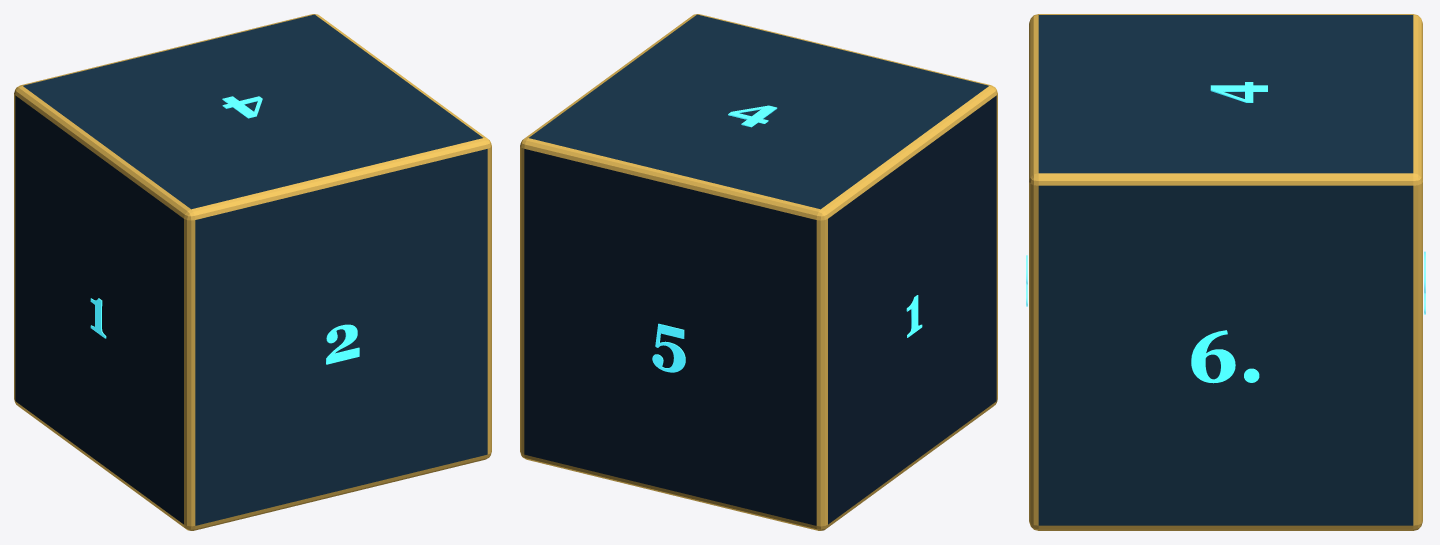
The model's file is d6_leo.glb.
3 renders of one model, left to right at view 1: azimuth 30°, elevation 25°; view 2: azimuth 150°, elevation 25°; view 3: azimuth 270°, elevation 25°, orthographic. The views are drawn at different scales.
Parts seen in each view (by area): view 1: DiceBody, Number_02; view 2: DiceBody, Number_05; view 3: DiceBody, Number_06, Number_04.
Boxes of the visible parts, x1=… form: DiceBody: x1=14, y1=14, x2=491, y2=530; Number_02: x1=326, y1=324, x2=359, y2=364; DiceBody: x1=520, y1=14, x2=997, y2=530; Number_05: x1=652, y1=323, x2=685, y2=372; DiceBody: x1=1029, y1=14, x2=1422, y2=530; Number_06: x1=1191, y1=330, x2=1259, y2=383; Number_04: x1=1210, y1=82, x2=1267, y2=102.
Size of the model in its own units: 2.34 by 2.34 by 2.34.
